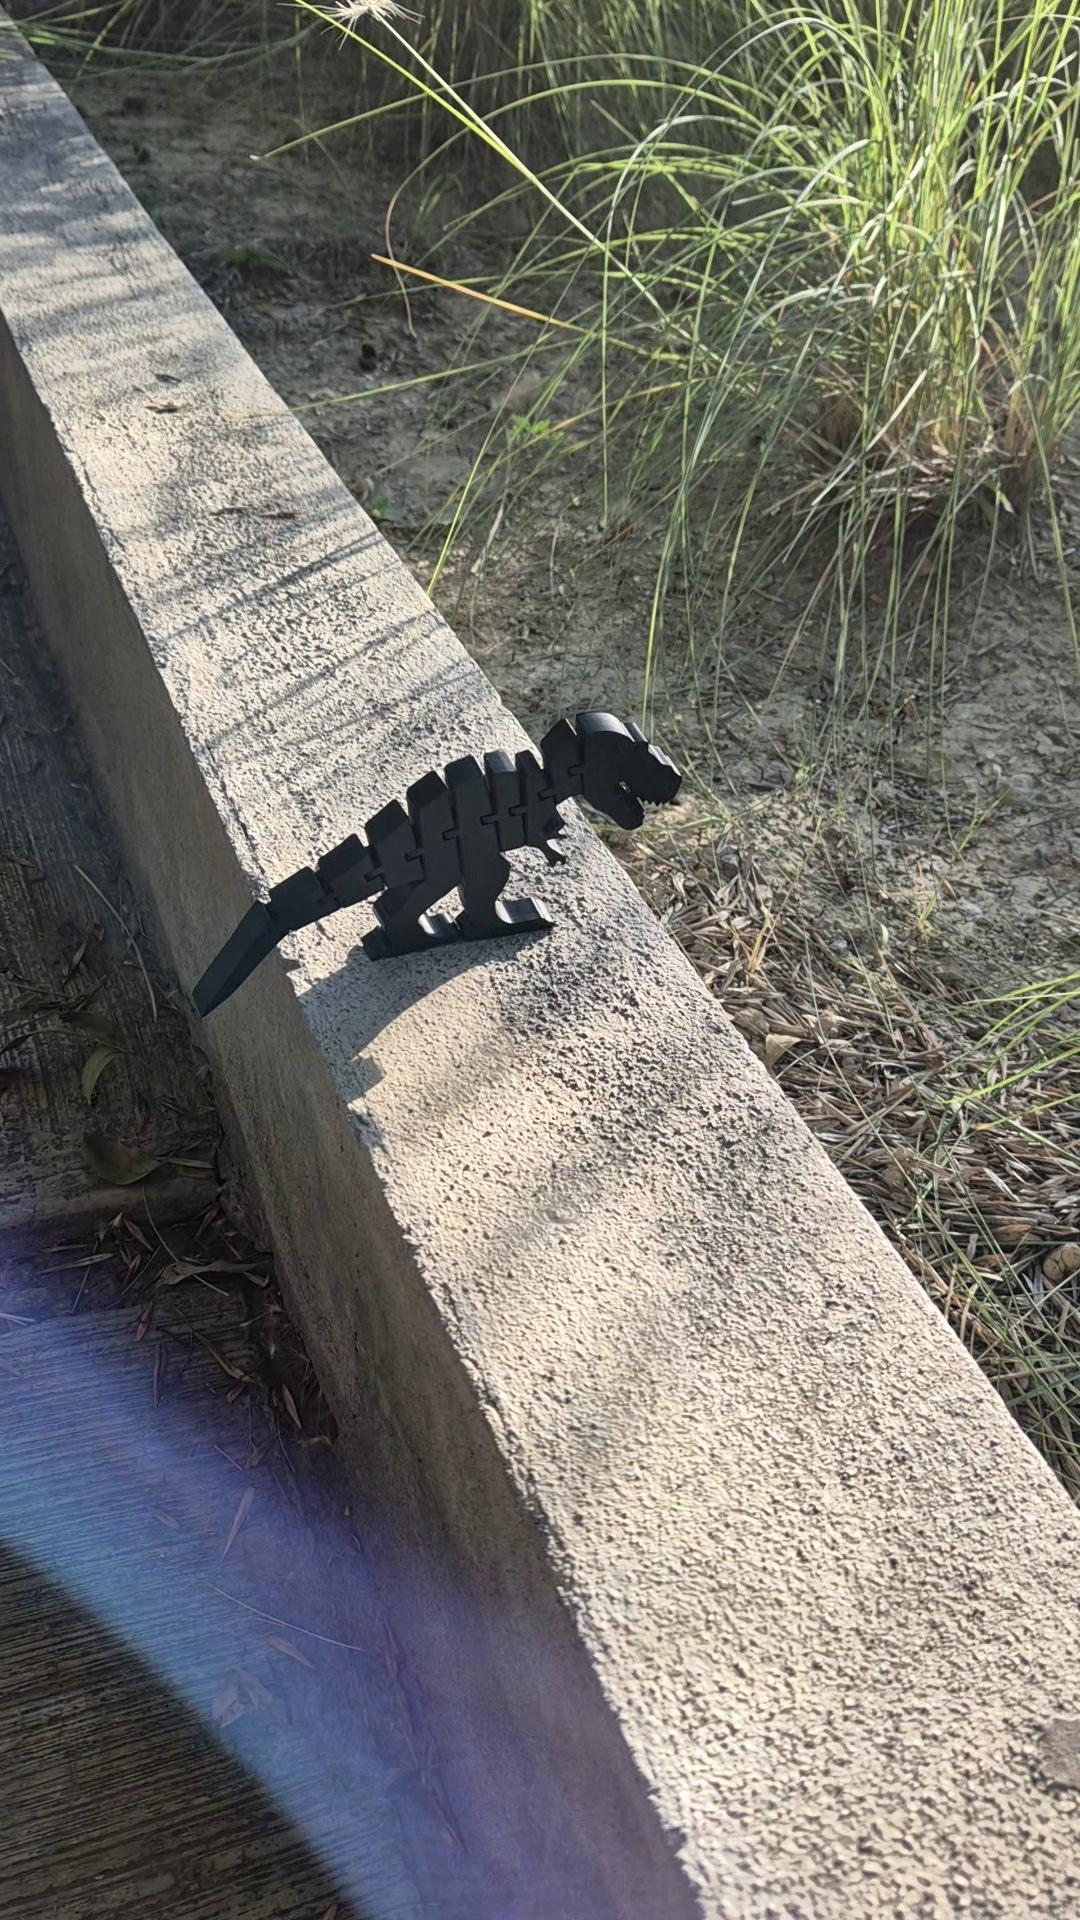dinosaur: (190, 709, 684, 1021)
